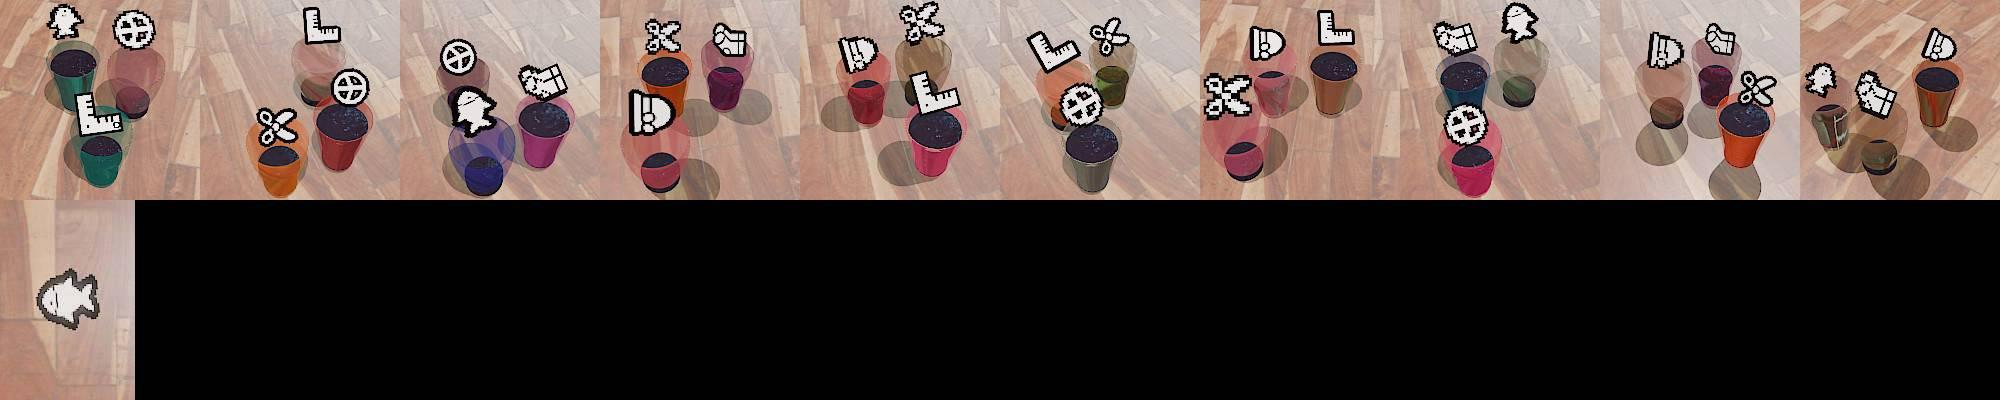icon: (34, 268, 101, 330), (907, 69, 960, 117), (1203, 71, 1254, 121), (1027, 29, 1080, 75), (628, 88, 677, 136), (453, 85, 499, 138), (74, 90, 125, 136), (1855, 69, 1899, 118), (1059, 82, 1105, 127), (518, 61, 569, 101), (899, 1, 944, 46), (1443, 104, 1489, 146), (258, 104, 300, 149), (1431, 19, 1478, 56), (1499, 1, 1540, 43), (1089, 17, 1129, 59), (114, 10, 156, 50), (1739, 69, 1778, 110), (838, 36, 879, 75), (302, 6, 342, 47), (330, 68, 370, 107), (643, 18, 682, 56), (1249, 24, 1287, 62), (1316, 9, 1353, 48), (1648, 31, 1685, 69), (46, 4, 84, 41), (440, 37, 478, 74), (1920, 27, 1958, 62), (713, 23, 749, 57), (1804, 61, 1837, 97), (1705, 22, 1739, 56)
